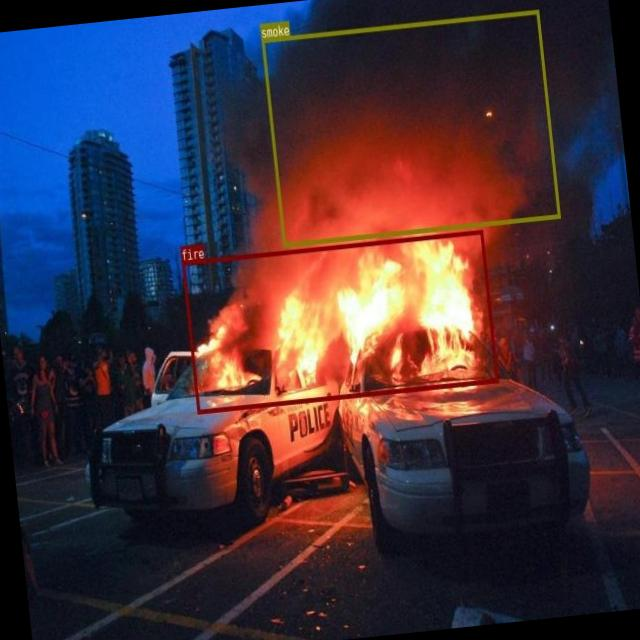fire: (181, 230, 497, 412)
smoke: (262, 8, 560, 246)
